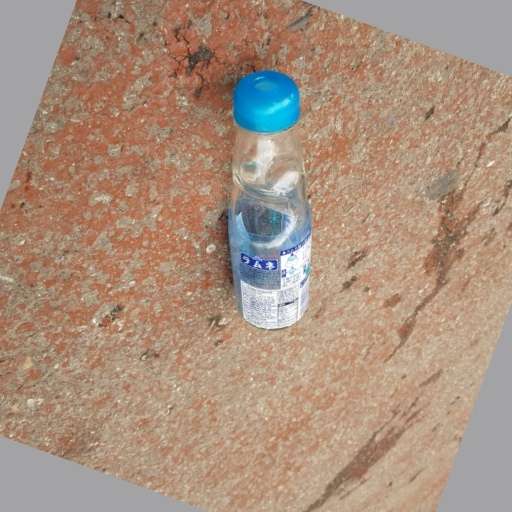Glass_4: (225, 65, 323, 337)
